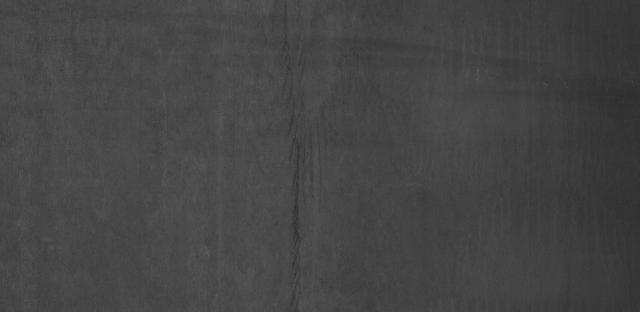water_spot: (273, 45, 314, 304)
